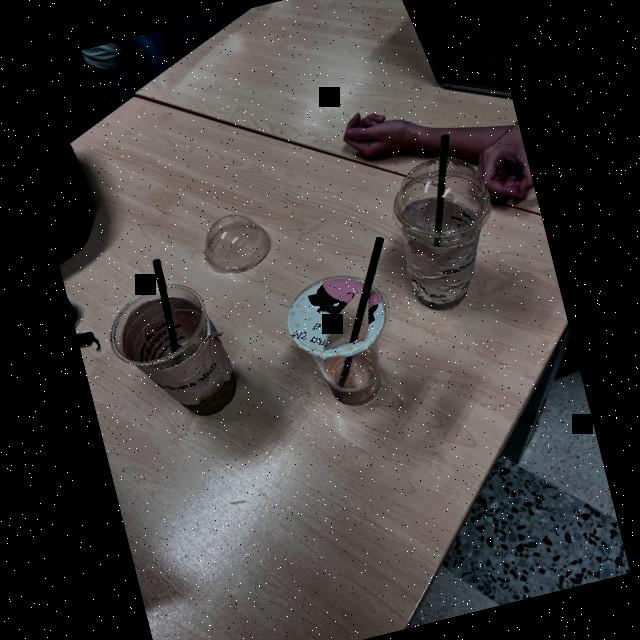plastic_cup: (99, 264, 249, 438), (274, 262, 414, 424), (375, 163, 511, 321)
plastic_cup_lid: (384, 144, 500, 250), (190, 198, 284, 288)
straw: (332, 238, 385, 400), (152, 259, 182, 353), (432, 133, 450, 250)
